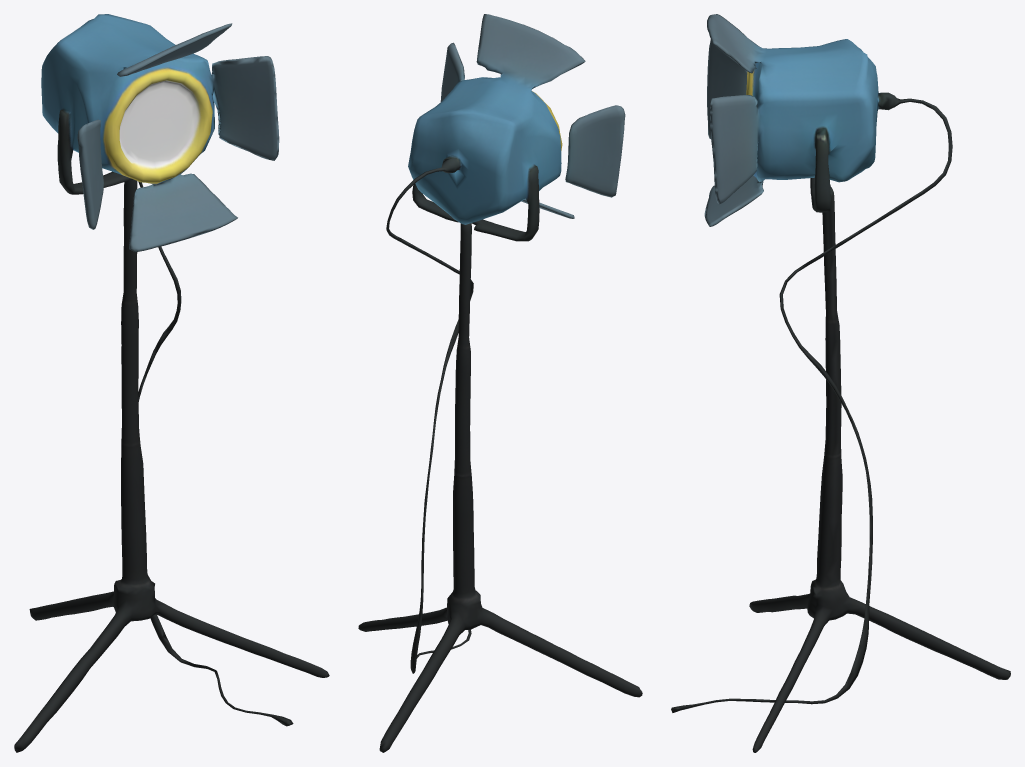
File: 08_light_short_large.glb
The picture shows the model from 3 angles, left to right: view 1: azimuth 30°, elevation 25°; view 2: azimuth 150°, elevation 25°; view 3: azimuth 270°, elevation 25°; orthographic projection. The views are drawn at different scales.
Visible parts, largest first — view 1: 08_light_short_large; view 2: 08_light_short_large; view 3: 08_light_short_large.
Part boxes in pixels (box(x1,y1,x2,y2)): 08_light_short_large: box(14, 14, 329, 752); 08_light_short_large: box(358, 14, 642, 752); 08_light_short_large: box(671, 14, 1010, 752).
Size of the model in its own units: 0.6133 by 1.3 by 0.6094.
Materials: 1 (1 with a texture image).
